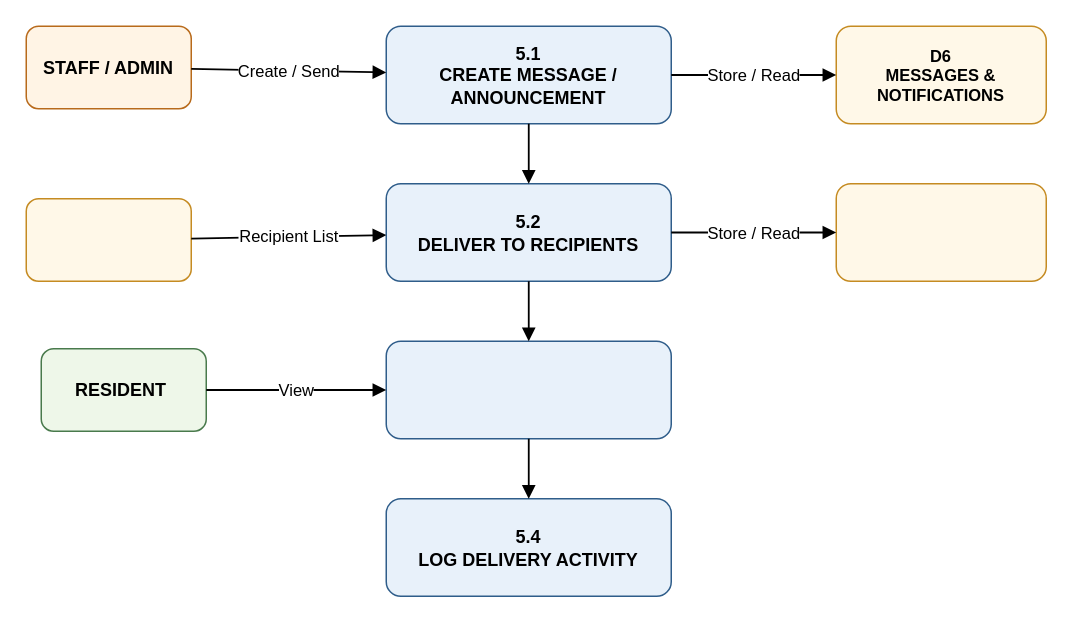
This 1073x623 diagram has some shape labels left out. The shapes that lost their labels are listed below. From the top down, each one's centre as x and y in pixels, then its label:
point 108,239: D1 RESIDENT RECORDS
point 940,231: D7 ACTIVITY LOGS & REPORTS
point 528,389: 5.3 VIEW MESSAGE / NOTIFICATION
